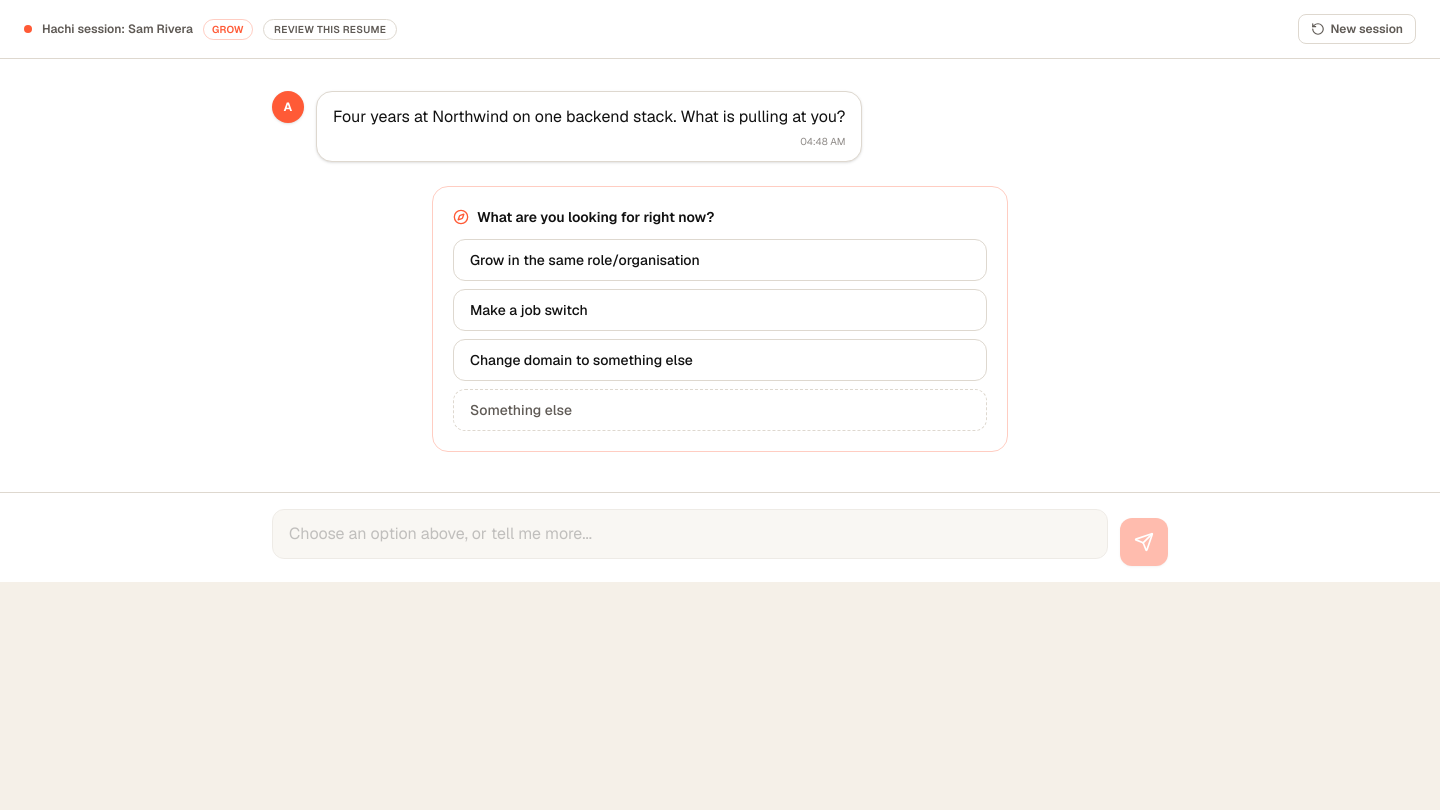
Test case: ChatWindow failure handling › explains the rate limit as the reason the demo is free, and offers no Retry
What coordinates should you click on to do the following:
click the button "Grow in the same role/organisation"
I would click on:
 (585, 260)
Its box is 453,239 -> 987,281.
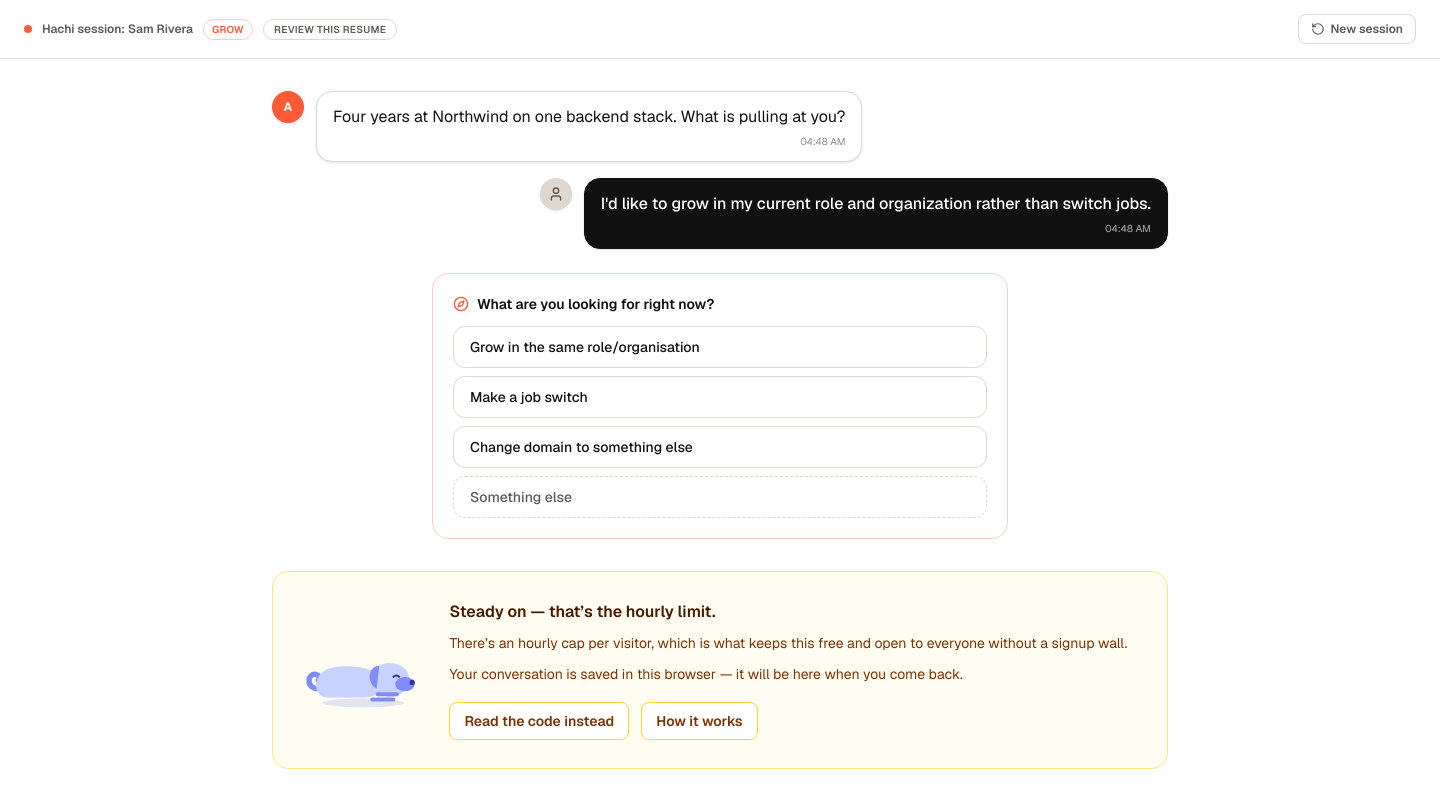
Check: the message shows "hourly limit", box 449,601 -> 716,622
Check: the message shows "keeps this free", box 449,634 -> 1127,652
